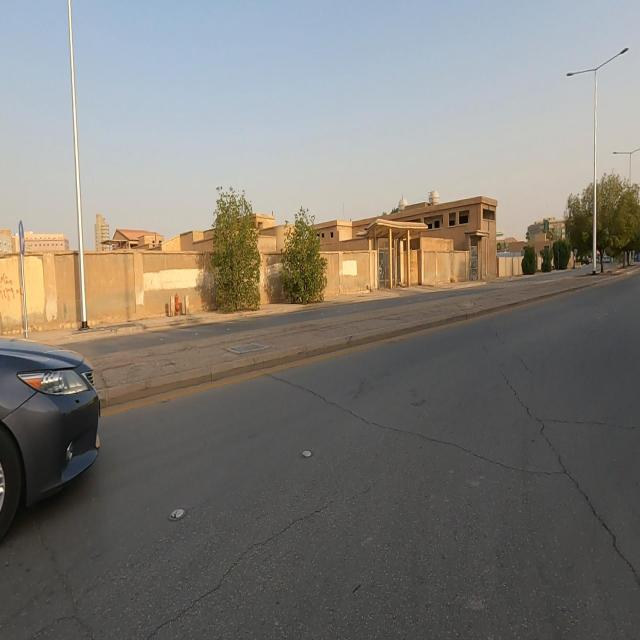Graffiti: (1, 272, 24, 306)
